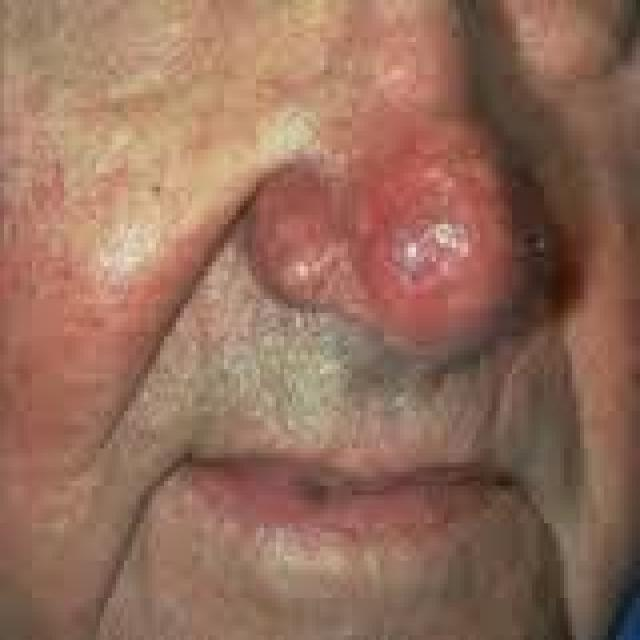Rosacea: (0, 139, 194, 468), (250, 136, 542, 312)
